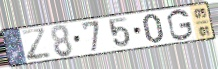0: (142, 13, 165, 44)
5: (106, 17, 132, 49)
7: (81, 20, 102, 53)
8: (50, 24, 74, 58)
G: (166, 8, 195, 42)
Z: (20, 27, 54, 63)
